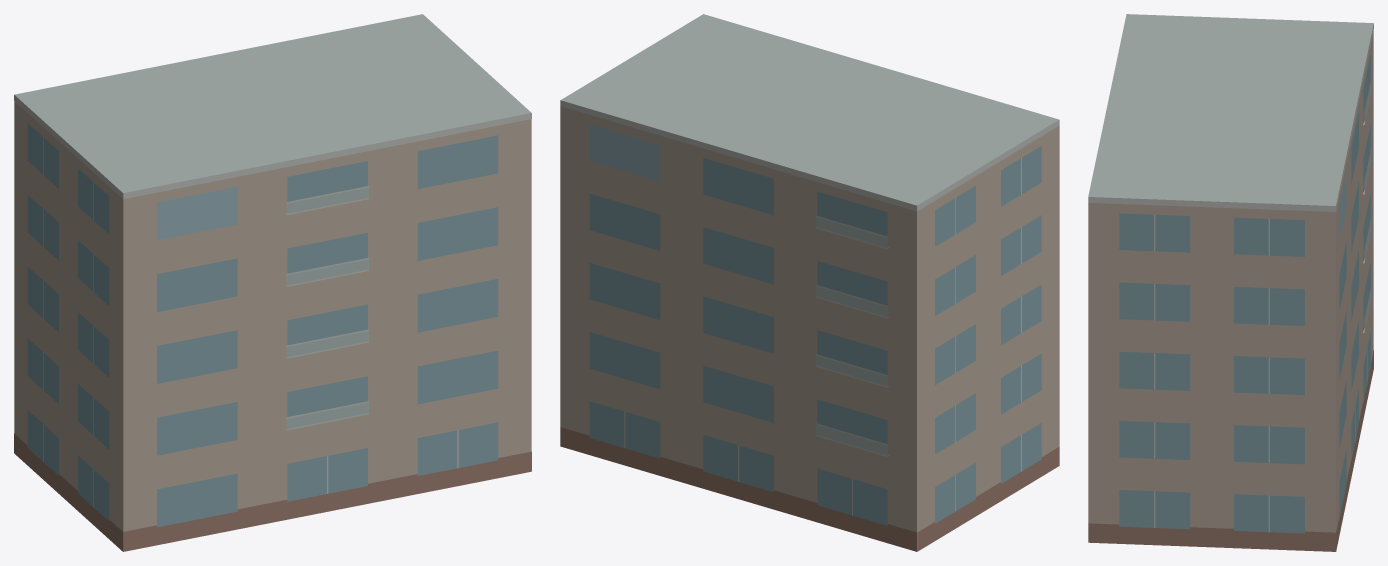
The model's file is survey-upis-33038619.glb.
3 renders of one model, left to right at view 1: azimuth 30°, elevation 25°; view 2: azimuth 150°, elevation 25°; view 3: azimuth 270°, elevation 25°, orthographic. The views are drawn at different scales.
Parts seen in each view (by area): view 1: survey-upis-33038619.tmp; view 2: survey-upis-33038619.tmp; view 3: survey-upis-33038619.tmp.
Boxes of the visible parts, bbox=[...] form: survey-upis-33038619.tmp: bbox=[14, 14, 531, 551]; survey-upis-33038619.tmp: bbox=[560, 14, 1059, 551]; survey-upis-33038619.tmp: bbox=[1088, 14, 1373, 551].
Size of the model in its own units: 17.05 by 14.3 by 10.72.
